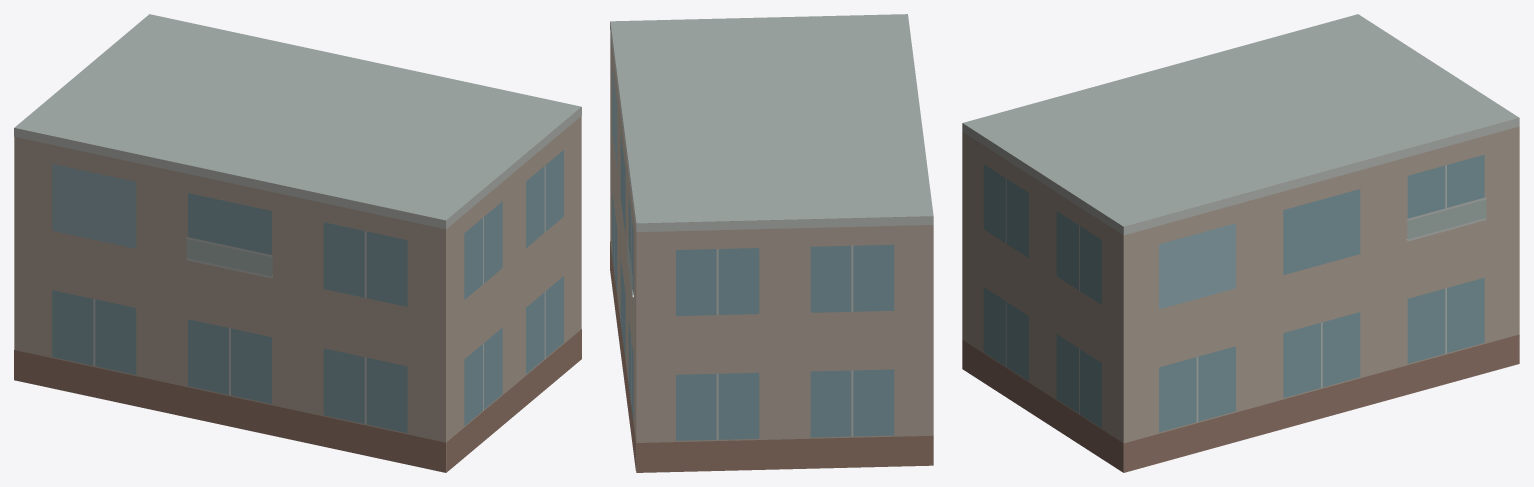
The model's file is survey-upis-32624881.glb.
3 renders of one model, left to right at view 1: azimuth 30°, elevation 25°; view 2: azimuth 150°, elevation 25°; view 3: azimuth 270°, elevation 25°, orthographic. The views are drawn at different scales.
Visible parts, largest first — view 1: survey-upis-32624881.tmp; view 2: survey-upis-32624881.tmp; view 3: survey-upis-32624881.tmp.
Part boxes in pixels (<box>): survey-upis-32624881.tmp: <box>14,14,581,472</box>; survey-upis-32624881.tmp: <box>610,14,933,472</box>; survey-upis-32624881.tmp: <box>962,14,1519,472</box>.
Bounding box in the file's own units: 12.9 × 6.95 × 14.27.
